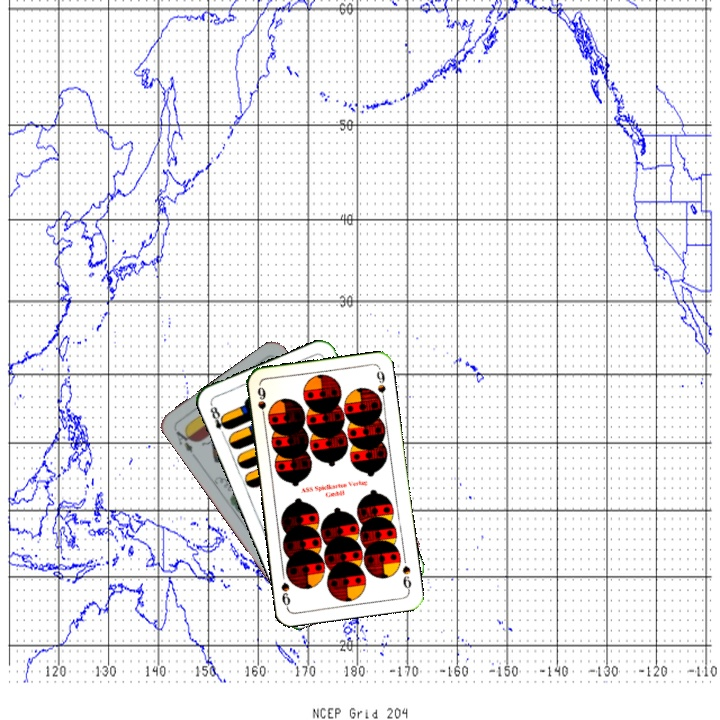E8: (206, 400, 232, 439)
EA: (171, 425, 197, 457)
S9: (253, 383, 269, 423), (398, 561, 414, 594)
